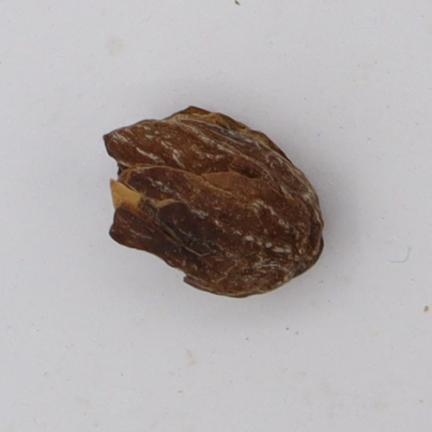husk: (104, 106, 323, 296)
